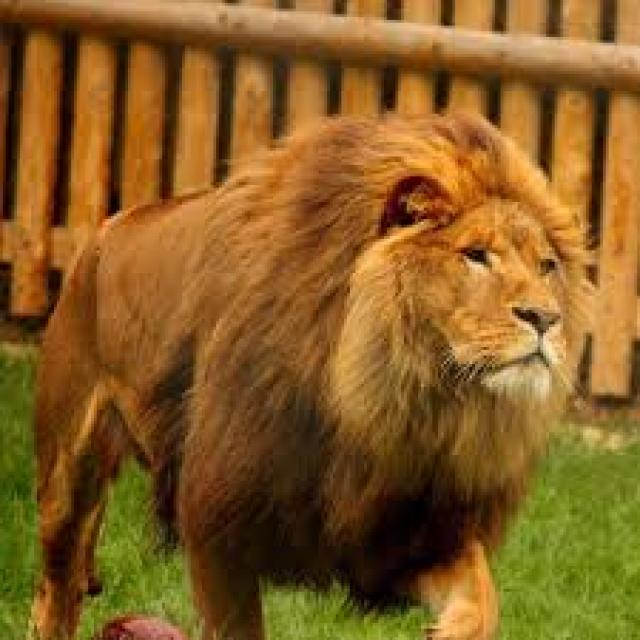Lion: (34, 114, 592, 637)
